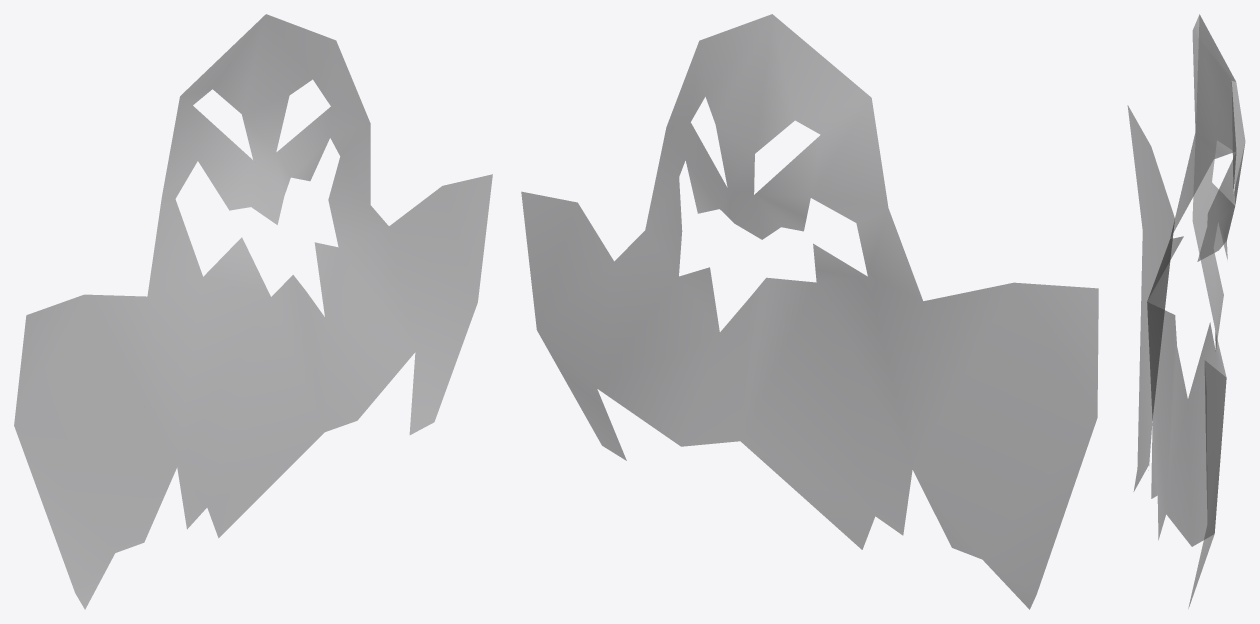
File: HWN20_Ghost_03.glb
3 renders of one model, left to right at view 1: azimuth 30°, elevation 25°; view 2: azimuth 150°, elevation 25°; view 3: azimuth 270°, elevation 25°, orthographic. The views are drawn at different scales.
Parts seen in each view (by area): view 1: HWN20_Ghost_03; view 2: HWN20_Ghost_03; view 3: HWN20_Ghost_03.
Part boxes in pixels (left/top/right/bottom): HWN20_Ghost_03: left=14, top=14, right=492, bottom=609; HWN20_Ghost_03: left=521, top=14, right=1098, bottom=609; HWN20_Ghost_03: left=1127, top=14, right=1245, bottom=608.
Bounding box in the file's own units: 0.8424 × 0.8311 × 0.1494.
Materials: 1 (1 with a texture image).
